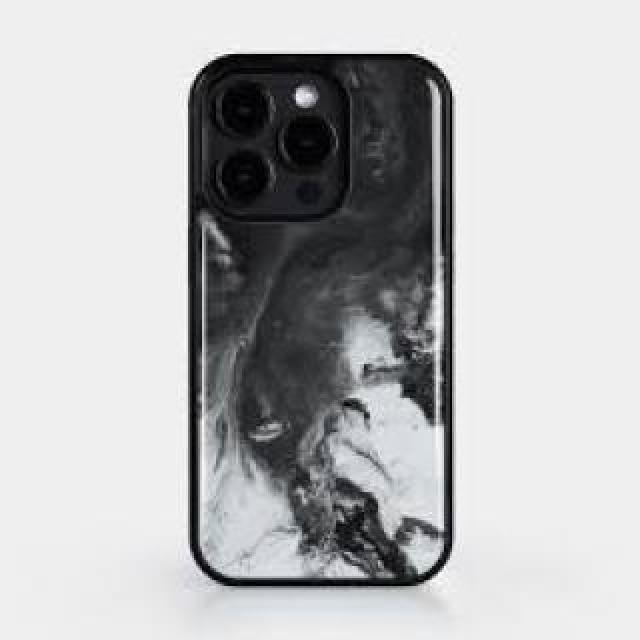smart phone: (146, 39, 496, 584)
